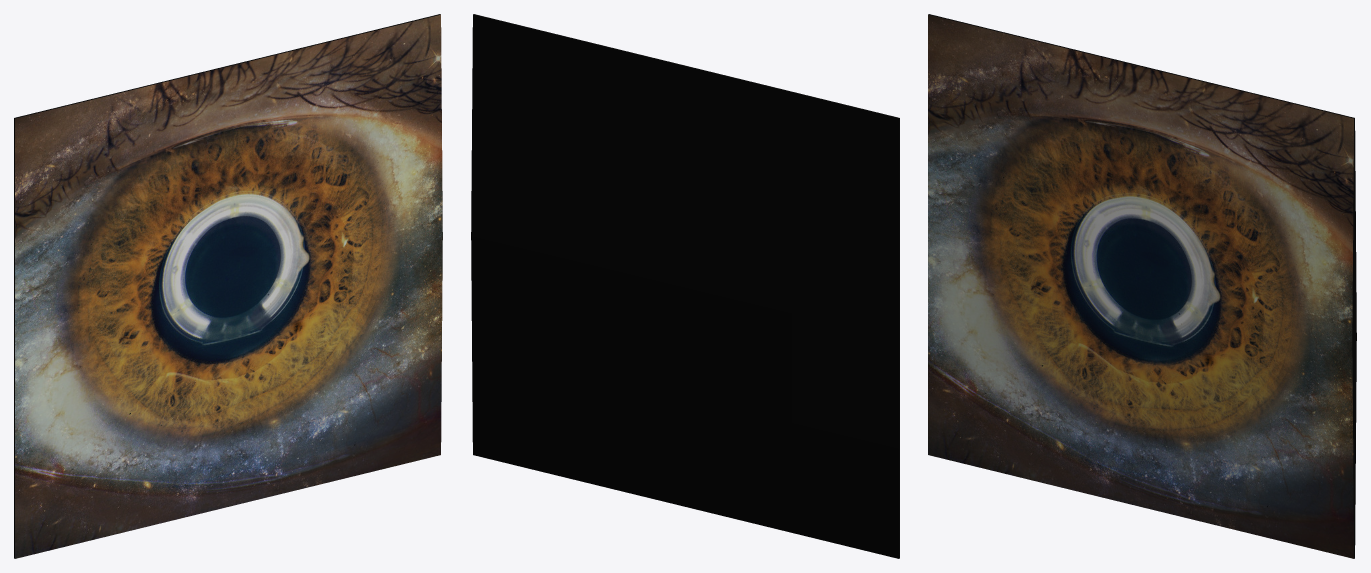
File: VinylAurora.glb
The picture shows the model from 3 angles, left to right: view 1: azimuth 30°, elevation 25°; view 2: azimuth 150°, elevation 25°; view 3: azimuth 330°, elevation 25°; orthographic projection.
Parts seen in each view (by area): view 1: VinylAurora; view 2: VinylAurora; view 3: VinylAurora.
Boxes of the visible parts, x1,y1,x2,y2 form: VinylAurora: [14, 14, 442, 558]; VinylAurora: [471, 14, 899, 558]; VinylAurora: [928, 14, 1356, 558].
Bounding box in the file's own units: 3.6 × 3.55 × 0.066.
Materials: 2 (1 with a texture image).
